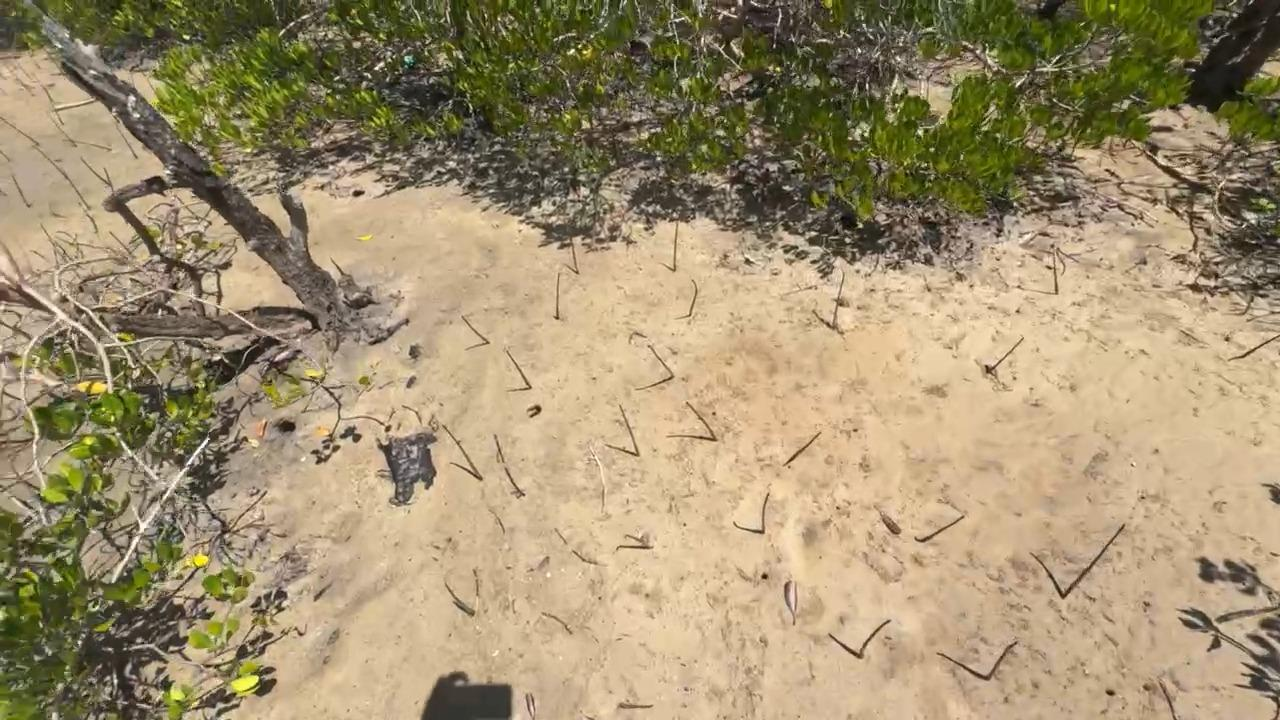Tree: (1061, 523, 1125, 598), (441, 424, 483, 480), (684, 401, 719, 443), (986, 336, 1025, 373), (781, 432, 821, 466), (30, 145, 68, 179), (859, 620, 891, 659), (987, 640, 1019, 679), (618, 403, 640, 457), (0, 116, 40, 145), (63, 170, 92, 209), (924, 515, 965, 541), (444, 582, 476, 615), (505, 349, 531, 389), (40, 84, 64, 126), (646, 345, 675, 379), (48, 112, 76, 146), (1242, 333, 1280, 358), (113, 123, 139, 159), (80, 157, 110, 186), (460, 315, 490, 344), (832, 269, 845, 327), (61, 138, 112, 152), (504, 467, 526, 498), (0, 319, 32, 339), (78, 202, 98, 234), (12, 175, 30, 207), (173, 194, 195, 216), (39, 223, 58, 248), (108, 231, 129, 251), (625, 533, 653, 548), (687, 279, 698, 317), (569, 235, 579, 274), (761, 492, 770, 534), (1052, 247, 1060, 294), (493, 434, 505, 463), (102, 167, 114, 192), (329, 257, 344, 276), (673, 220, 678, 272), (555, 272, 560, 319), (0, 149, 10, 161), (0, 55, 21, 60)
